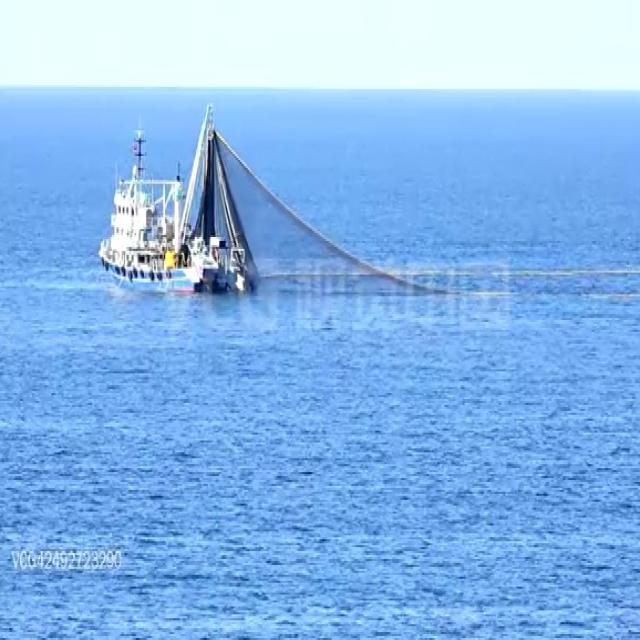fishing boat: (94, 115, 242, 300)
